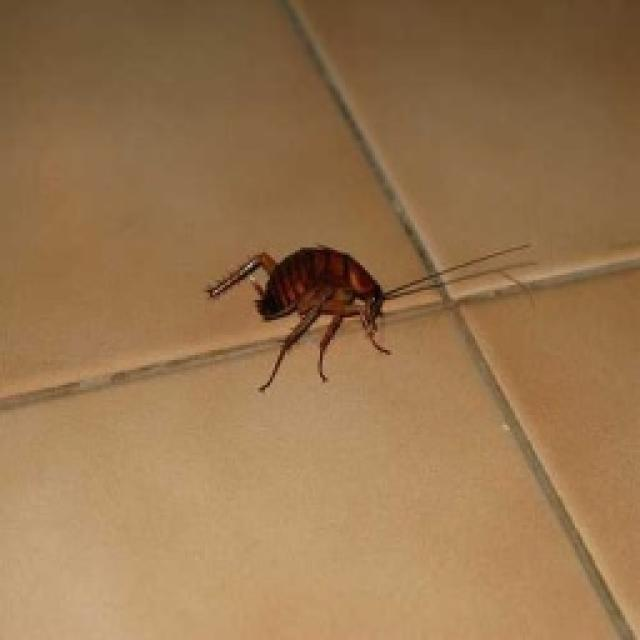cockroach: (160, 215, 469, 397)
